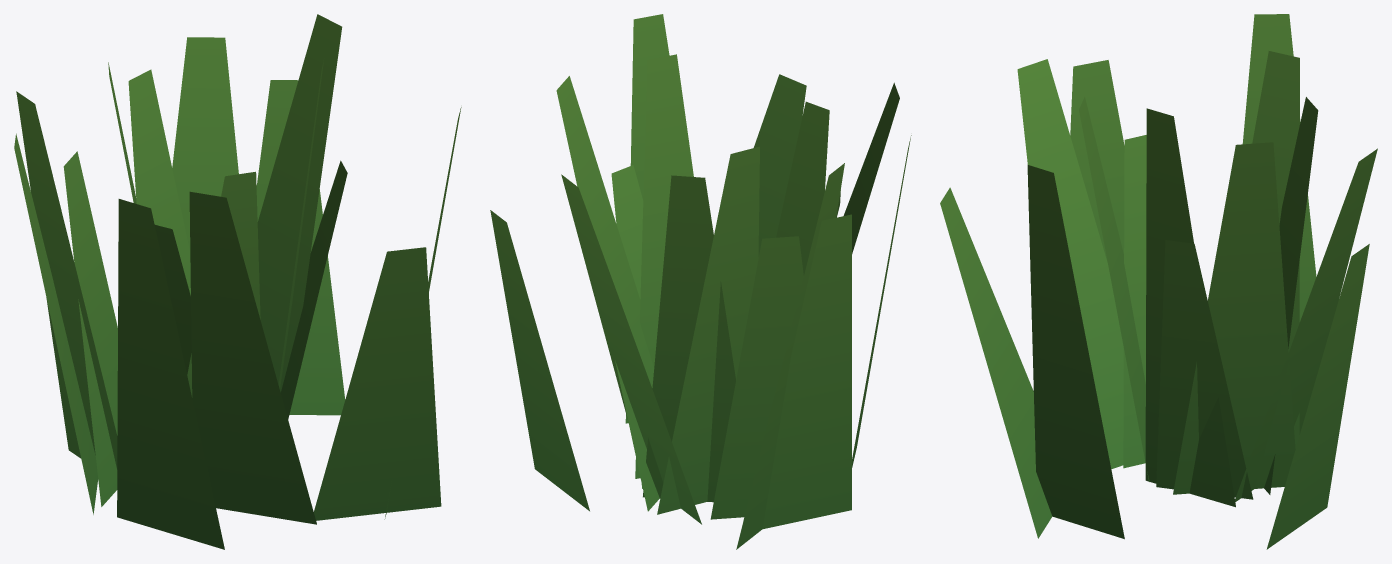
Rendered from herbe_02.glb.
3 renders of one model, left to right at view 1: azimuth 30°, elevation 25°; view 2: azimuth 150°, elevation 25°; view 3: azimuth 270°, elevation 25°, orthographic. The views are drawn at different scales.
Visible parts, largest first — view 1: herbe_02; view 2: herbe_02; view 3: herbe_02.
Boxes of the visible parts, bbox=[...] form: herbe_02: bbox=[14, 14, 461, 549]; herbe_02: bbox=[490, 14, 911, 549]; herbe_02: bbox=[940, 14, 1377, 549].
Bounding box in the file's own units: 0.1446 × 0.1677 × 0.1663.
